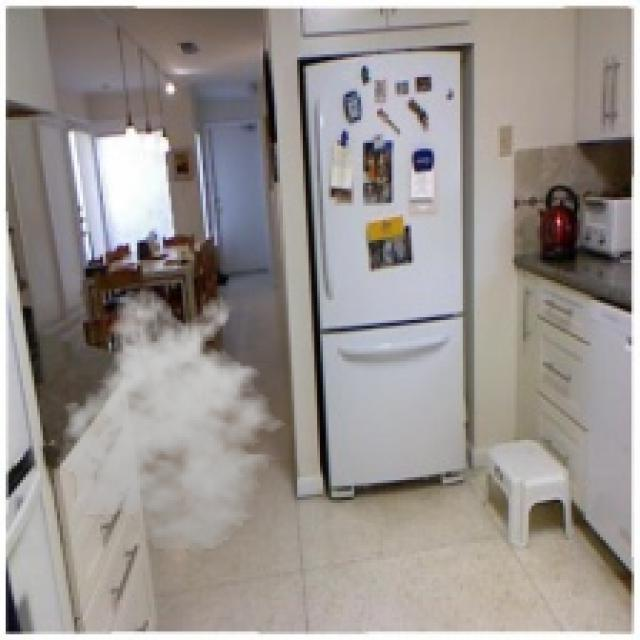Smoke: (49, 286, 298, 554)
